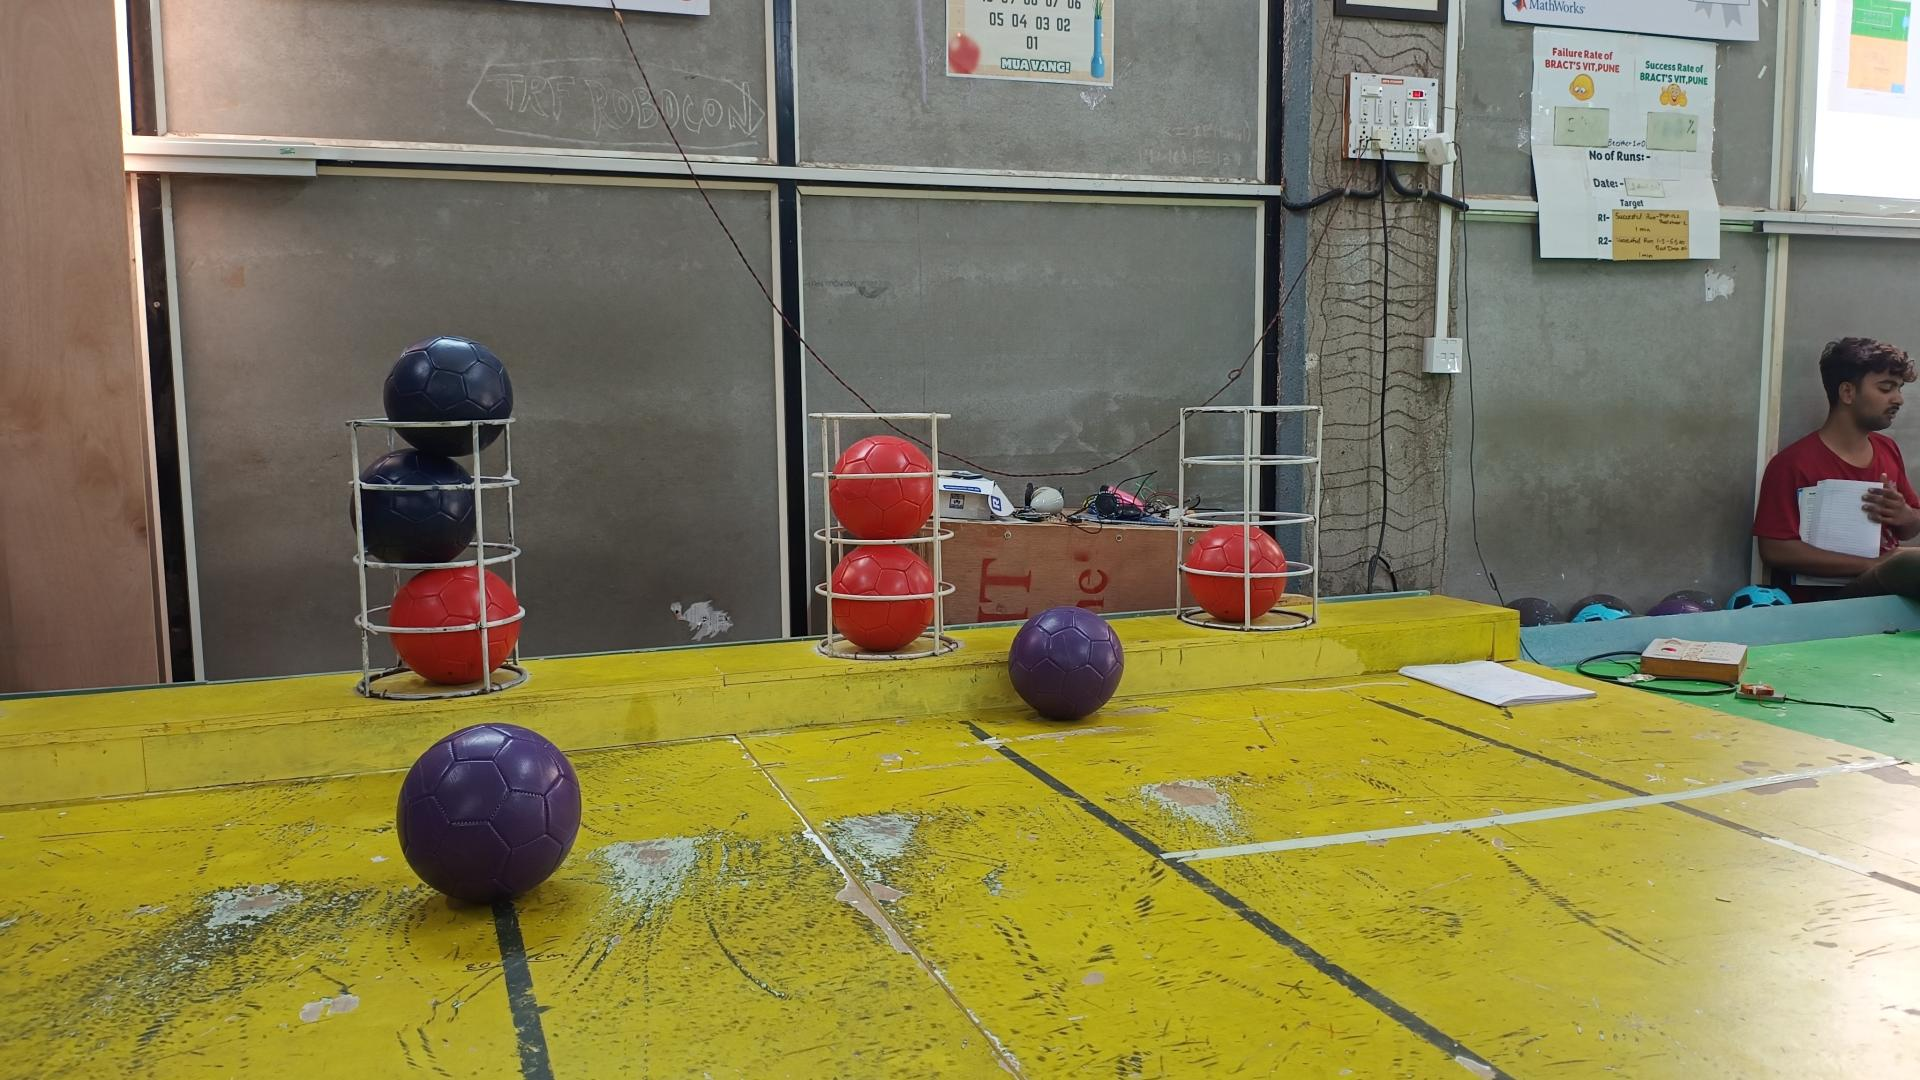dhoka: (382, 334, 514, 458), (348, 450, 476, 563)
laale: (390, 566, 521, 686), (828, 435, 934, 541), (832, 543, 934, 653), (1185, 525, 1286, 622)
